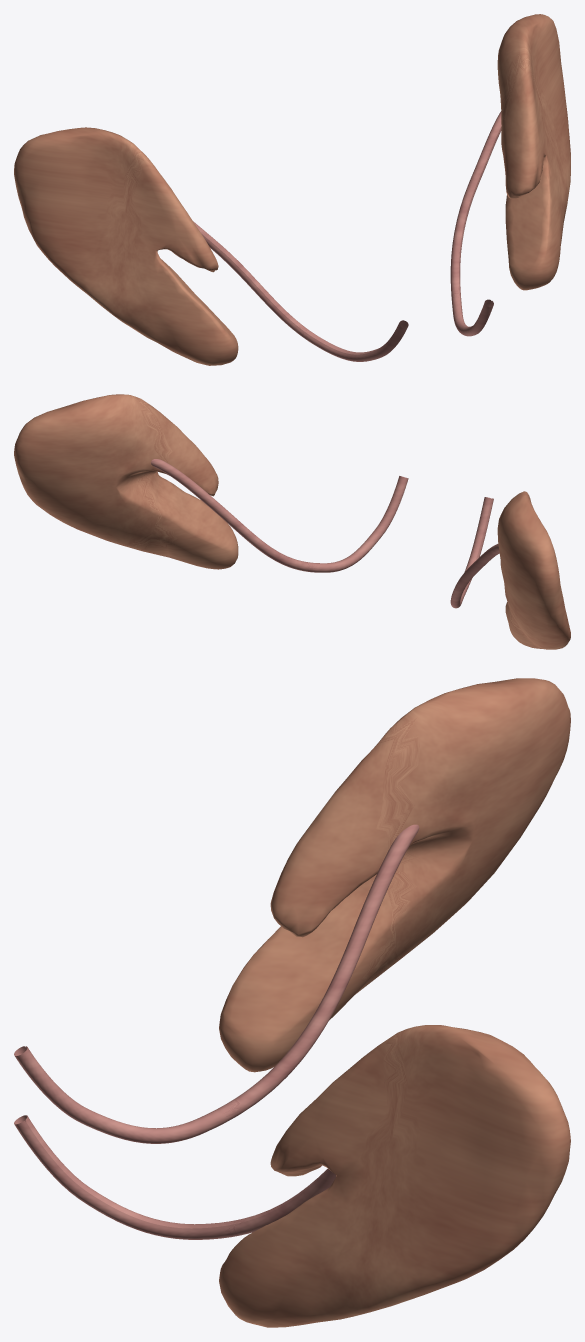
Rendered from submandibular.glb.
3 renders of one model, top to bottom at view 1: azimuth 30°, elevation 25°; view 2: azimuth 150°, elevation 25°; view 3: azimuth 270°, elevation 25°, orthographic. The views are drawn at different scales.
Visible parts, largest first — view 1: Submandibular gland.r.001, Submandibular gland.l.001, Submandibular duct.l.001, Submandibular duct.r.001; view 2: Submandibular gland.l.001, Submandibular gland.r.001, Submandibular duct.l.001, Submandibular duct.r.001; view 3: Submandibular gland.l.001, Submandibular gland.r.001, Submandibular duct.r.001, Submandibular duct.l.001.
Part boxes in pixels (bbox=[...]): Submandibular gland.r.001: bbox=[14, 127, 238, 365]; Submandibular gland.l.001: bbox=[497, 14, 570, 290]; Submandibular duct.l.001: bbox=[450, 111, 501, 336]; Submandibular duct.r.001: bbox=[193, 221, 408, 361]; Submandibular gland.l.001: bbox=[14, 394, 238, 569]; Submandibular gland.r.001: bbox=[497, 491, 570, 649]; Submandibular duct.l.001: bbox=[151, 459, 408, 572]; Submandibular duct.r.001: bbox=[450, 497, 499, 608]; Submandibular gland.l.001: bbox=[219, 1025, 570, 1327]; Submandibular gland.r.001: bbox=[219, 678, 570, 1072]; Submandibular duct.r.001: bbox=[14, 824, 419, 1143]; Submandibular duct.l.001: bbox=[14, 1115, 335, 1239].
Bounding box in the file's own units: 0.0629 × 0.0224 × 0.0339.
2 materials, 2 textured.
